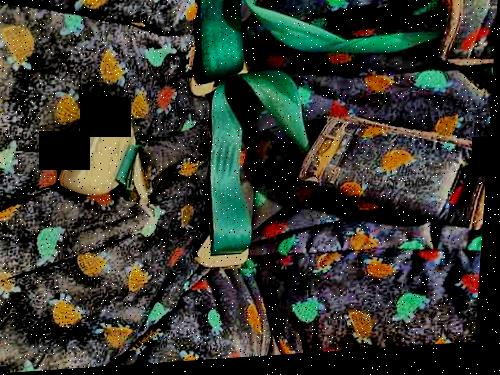seatbelt: (174, 0, 280, 289)
